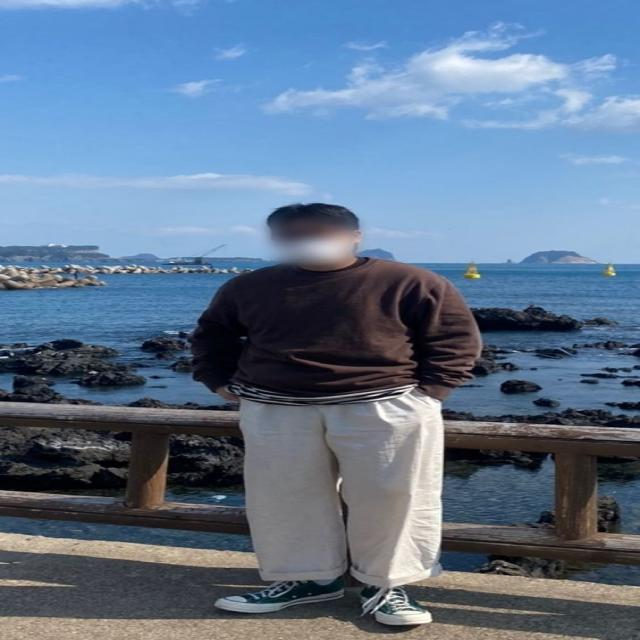cottonpants: (243, 386, 450, 587)
mtm: (186, 256, 479, 397)
